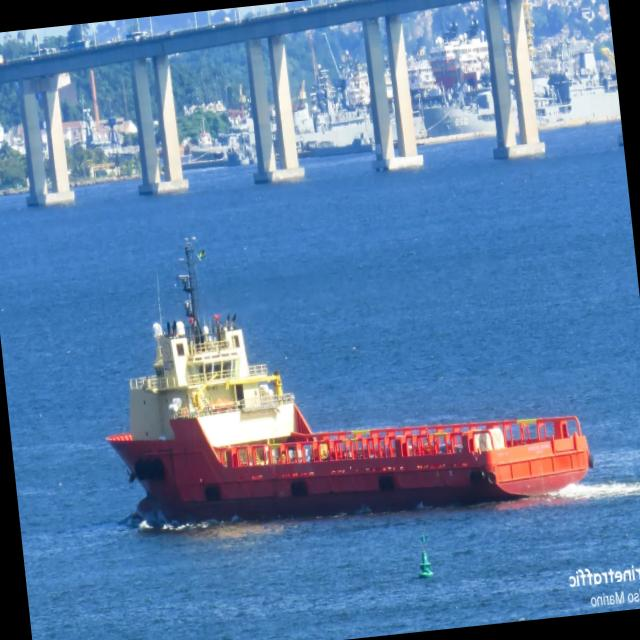Military: (532, 48, 621, 129), (424, 87, 494, 136), (510, 98, 519, 133)
Offshore: (107, 239, 591, 523)
